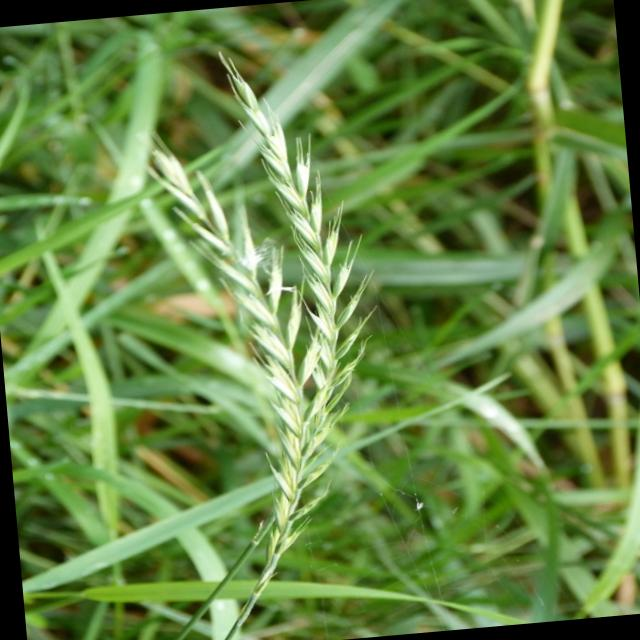Lolium: (0, 0, 640, 640), (128, 35, 410, 640)
